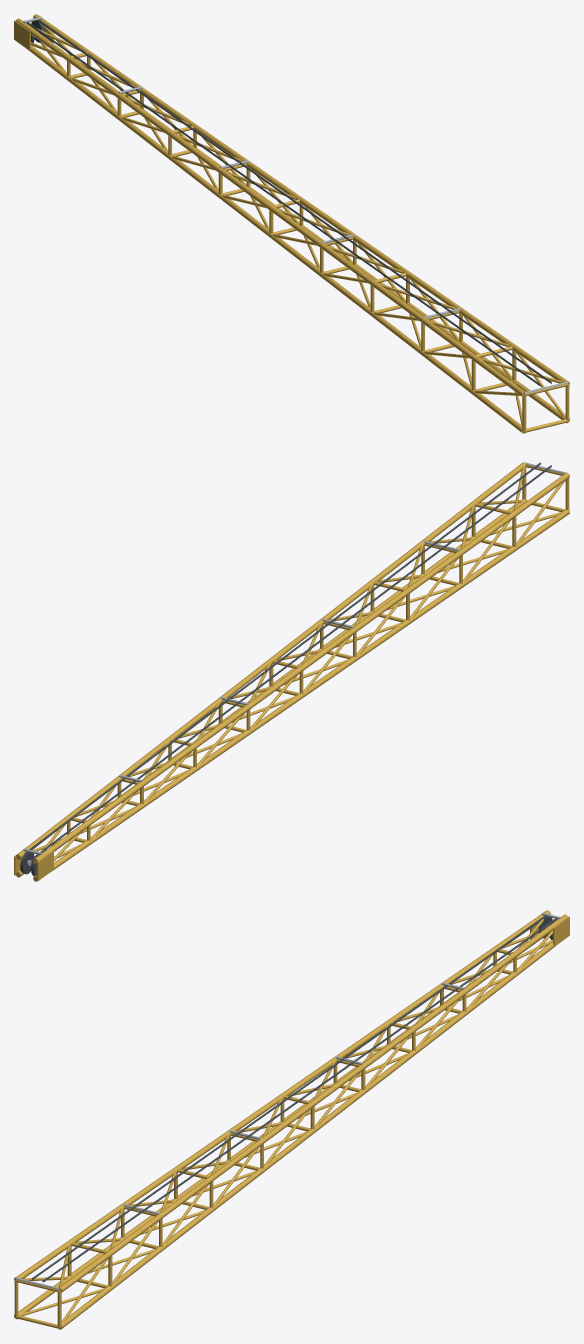
File: crane_boom_30m.glb
3 renders of one model, top to bottom at view 1: azimuth 30°, elevation 25°; view 2: azimuth 150°, elevation 25°; view 3: azimuth 330°, elevation 25°, orthographic.
Visible parts, largest first — view 1: crane_boom_30m; view 2: crane_boom_30m; view 3: crane_boom_30m.
Part boxes in pixels (left/top/right/bottom): crane_boom_30m: left=14, top=14, right=569, bottom=433; crane_boom_30m: left=14, top=462, right=569, bottom=881; crane_boom_30m: left=14, top=910, right=569, bottom=1329.
Size of the model in its own units: 1.61 by 1.44 by 30.11.
